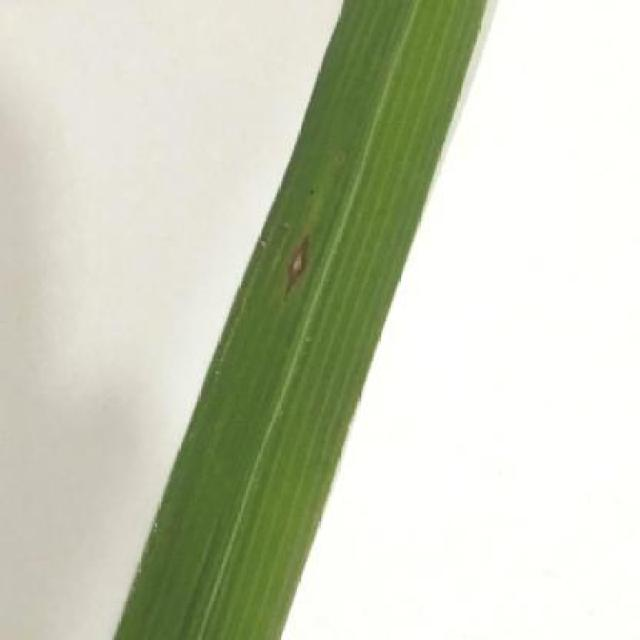Bacterial_Leaf_Blight: (277, 195, 317, 311)
